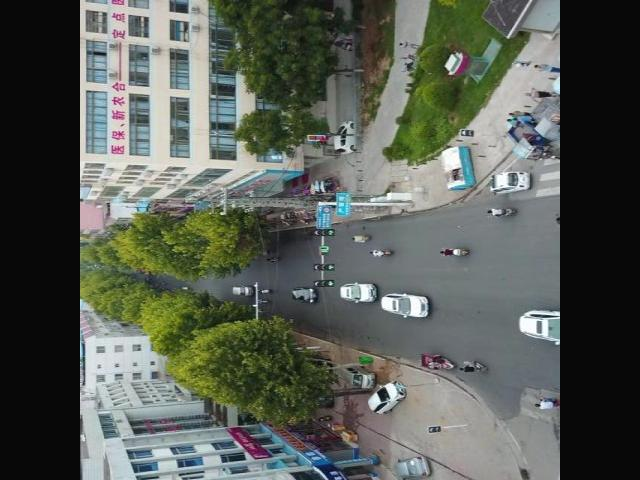out of water: (524, 87, 556, 103), (534, 396, 556, 409), (512, 115, 540, 123), (534, 64, 560, 72), (458, 361, 478, 371), (400, 41, 422, 49), (510, 110, 534, 117), (488, 208, 506, 217), (507, 117, 522, 127), (440, 248, 457, 256), (426, 361, 444, 368), (370, 249, 386, 256), (352, 235, 368, 241), (256, 307, 268, 312), (376, 250, 386, 255), (254, 298, 266, 302), (258, 209, 269, 213), (266, 257, 276, 261), (261, 250, 269, 255), (257, 289, 267, 293), (269, 257, 277, 261), (181, 286, 189, 288), (158, 281, 166, 283), (144, 277, 150, 279)
